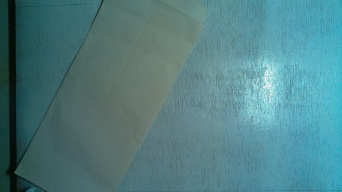l: (13, 1, 199, 190)
